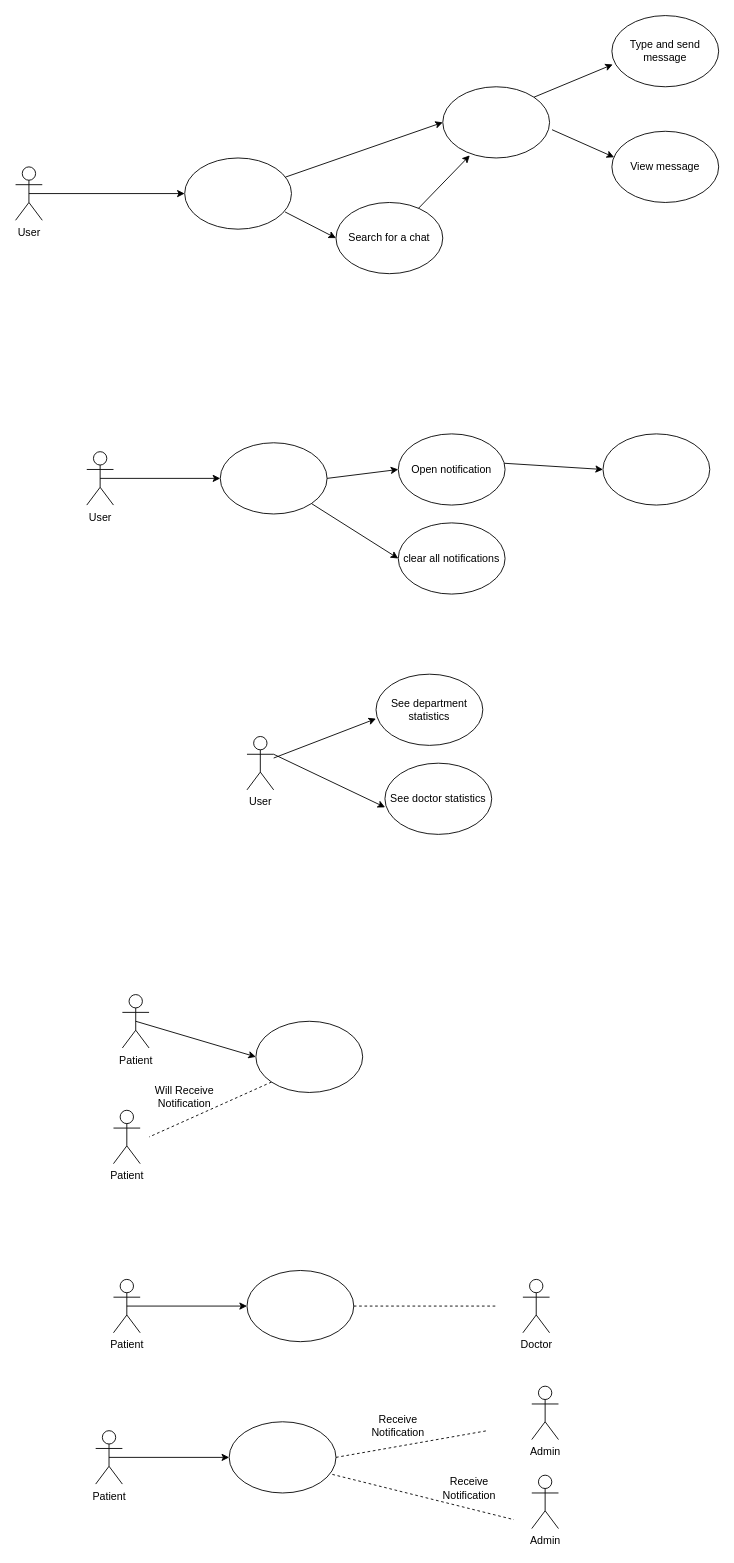
This 734x1563 diagram has some shape labels left out. Each missing label, with the box of its shape:
add review: (228, 1421, 336, 1493)
cancel appointment: (246, 1270, 354, 1342)
delete notification: (602, 433, 710, 505)
makes appointment: (255, 1020, 363, 1092)
Select chat: (442, 86, 550, 158)
View chat list: (184, 157, 291, 229)
View notification: (219, 442, 327, 514)
